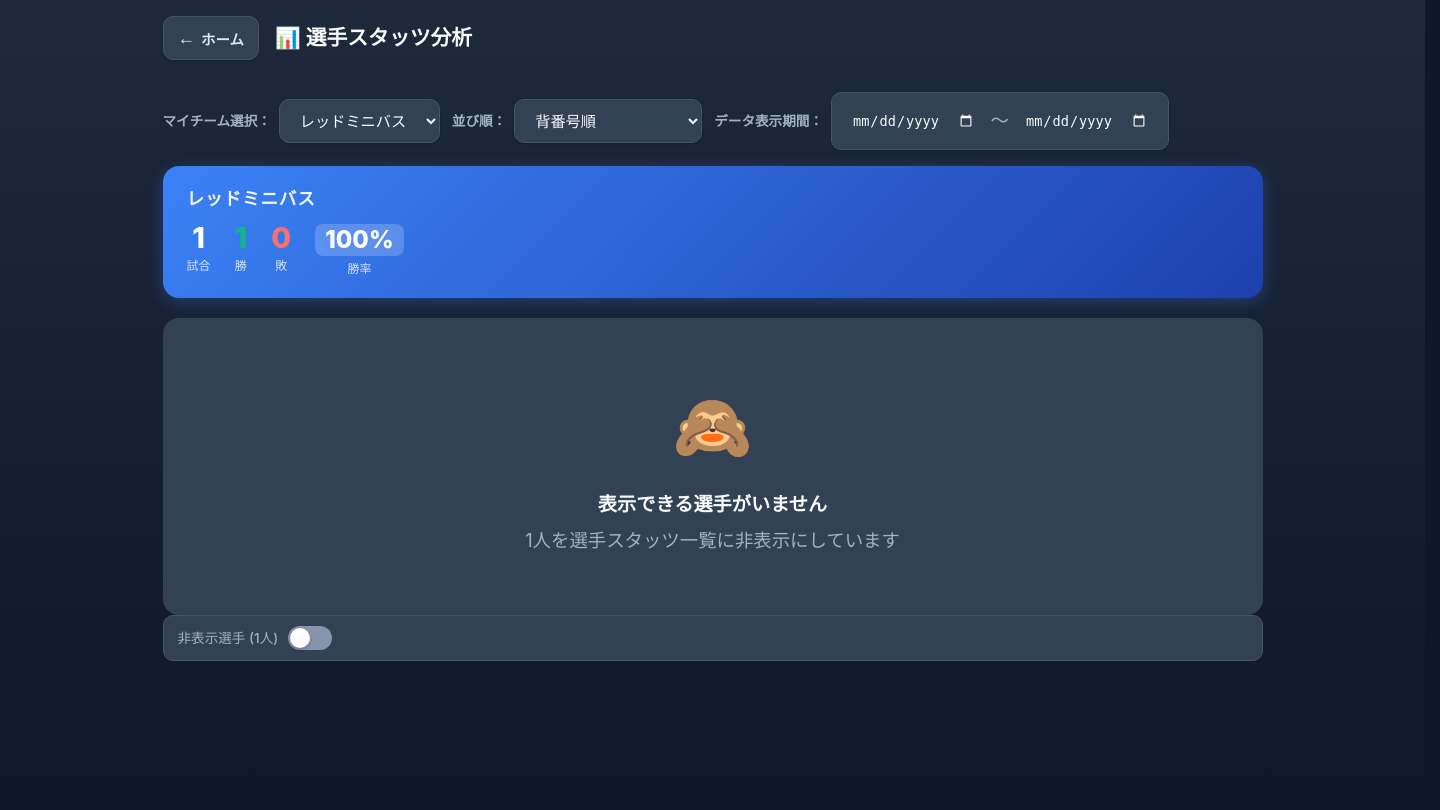
Scenario: 非表示選手も表示していて、それでも0件のとき › 非表示のせいだとは言わない（全員表示しているのだから理由になっていない）
The width and height of the screenshot is (1440, 810).
What coordinates should you click on to do the following:
click the checkbox named "非表示にした選手も一覧に表示する"
I would click on:
 (228, 638)
Its box is [162,615,1262,661].
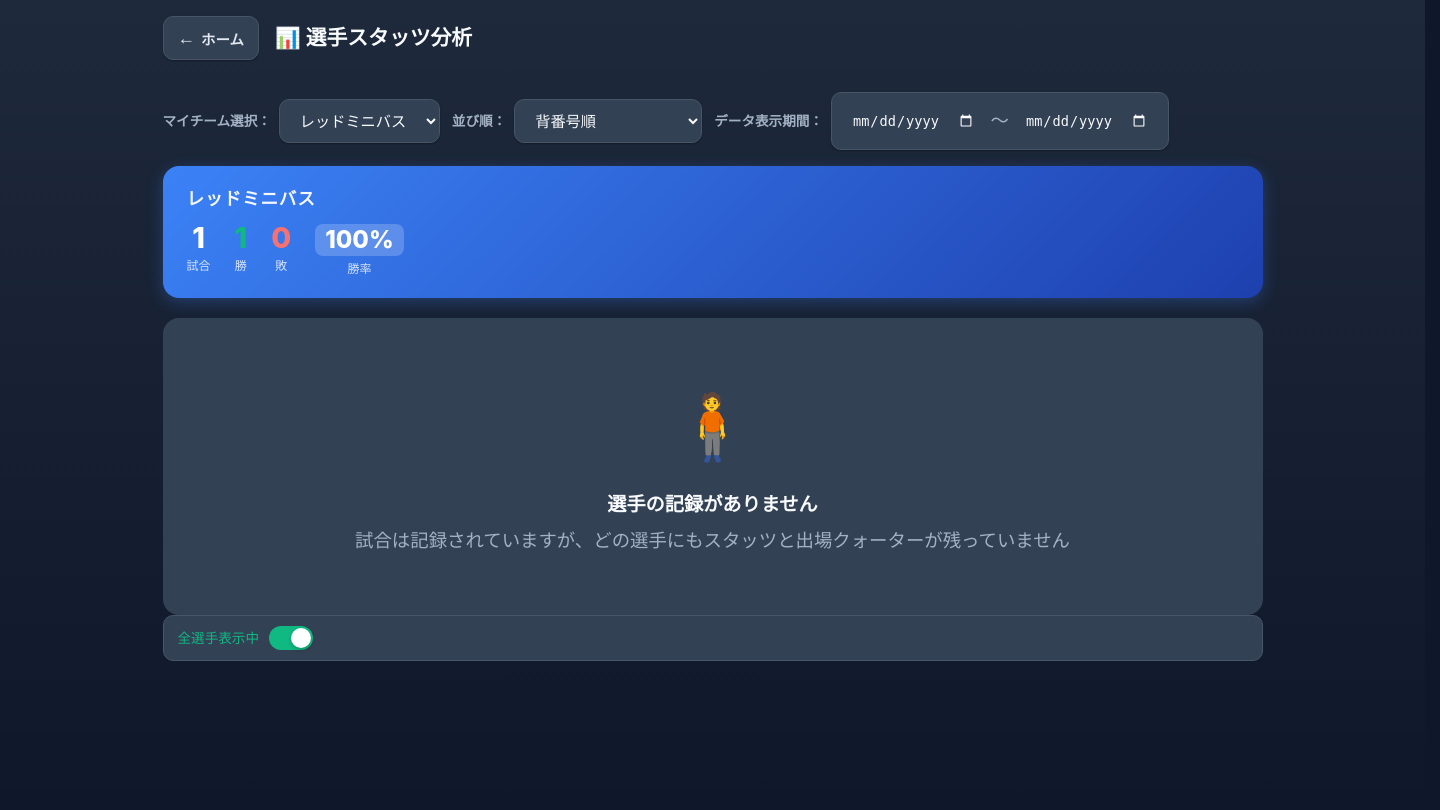
Expected: the heading "表示できる選手がいません" is gone
